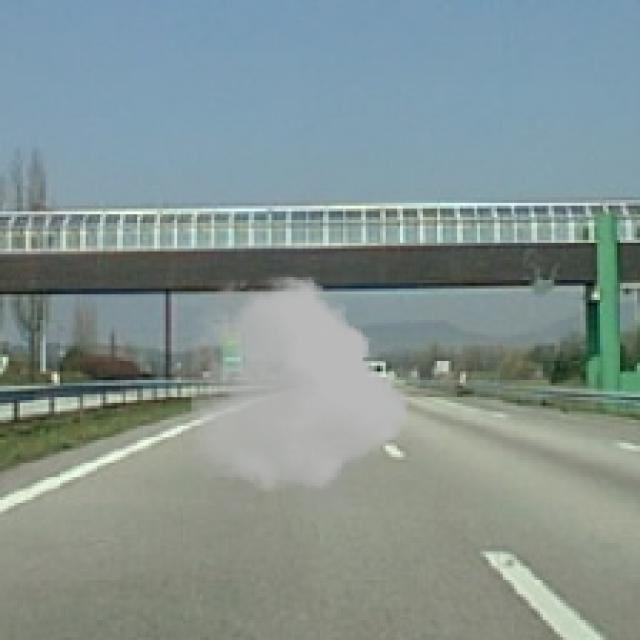smoke: (192, 271, 408, 520)
